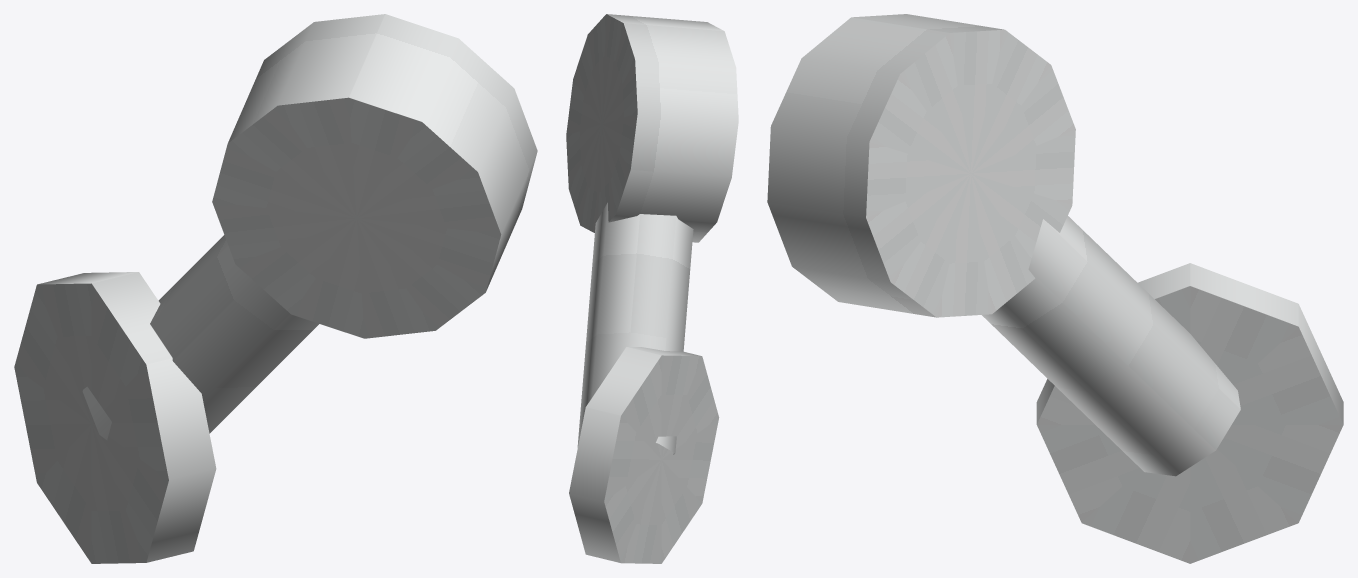
Rendered from nycsignalarm_stub_246.obj.
3 views of the same model, side by side, from view 1: azimuth 30°, elevation 25°; view 2: azimuth 150°, elevation 25°; view 3: azimuth 270°, elevation 25° (orthographic). The views are drawn at different scales.
Visible parts, largest first — view 1: nycsignalarm_stub_246; view 2: nycsignalarm_stub_246; view 3: nycsignalarm_stub_246.
Part boxes in pixels (x1=…): nycsignalarm_stub_246: x1=14, y1=14, x2=537, y2=563; nycsignalarm_stub_246: x1=566, y1=14, x2=738, y2=563; nycsignalarm_stub_246: x1=767, y1=14, x2=1343, y2=563.
Size of the model in its own units: 0.376 by 0.7445 by 0.6573.
